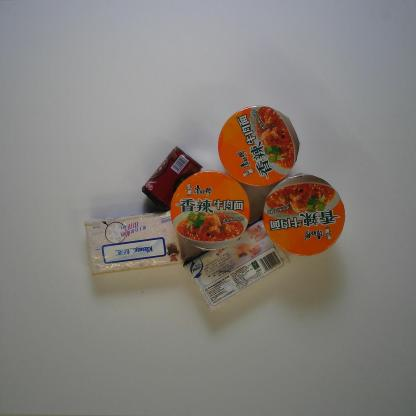Canned Food: (140, 145, 205, 210)
Instant Noodles: (216, 105, 302, 188), (262, 173, 346, 257), (170, 171, 251, 254)
Tissue: (184, 219, 292, 312), (83, 209, 186, 277)
